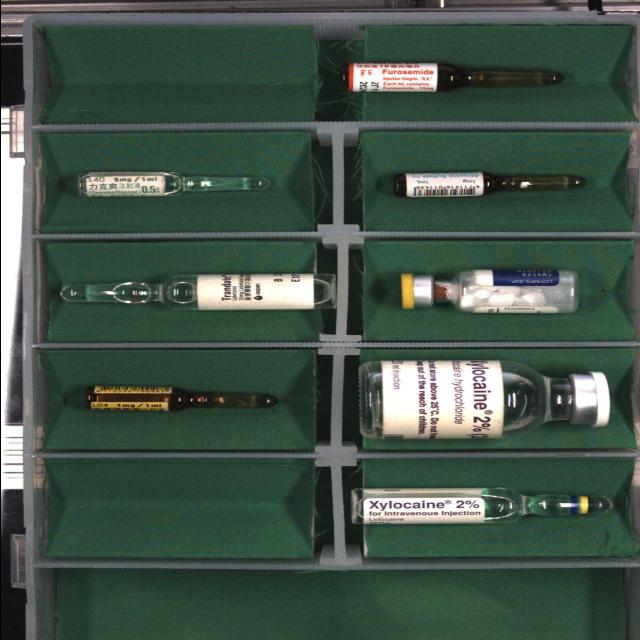Vials: (358, 360, 609, 439), (399, 269, 576, 313)
